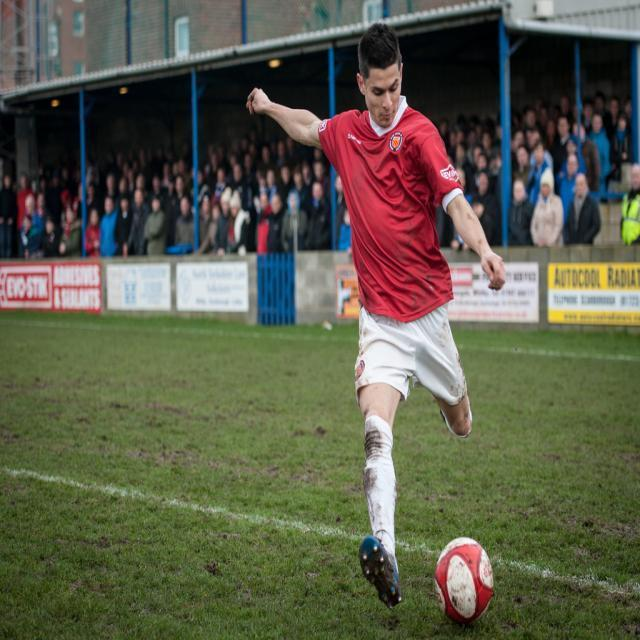football: (405, 526, 506, 622)
